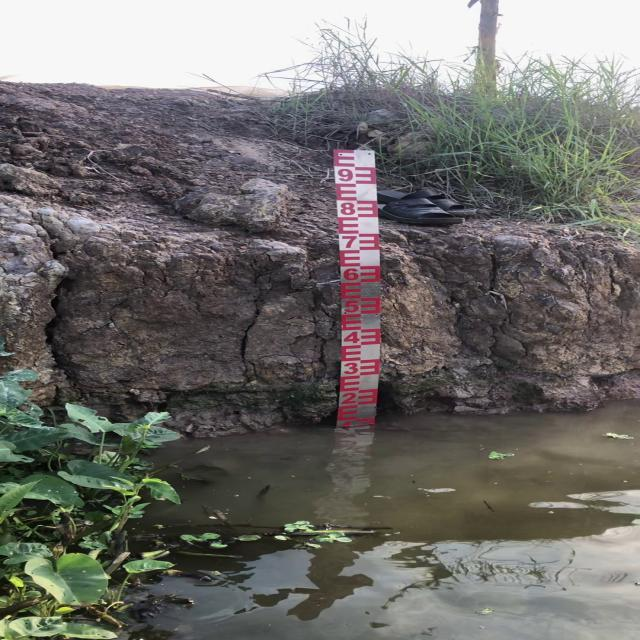ruler: (326, 139, 407, 439)
value: (334, 166, 358, 187), (338, 233, 361, 253), (339, 266, 362, 285), (341, 298, 362, 318), (338, 200, 360, 219), (340, 358, 361, 376), (340, 328, 362, 345), (338, 389, 359, 406)
